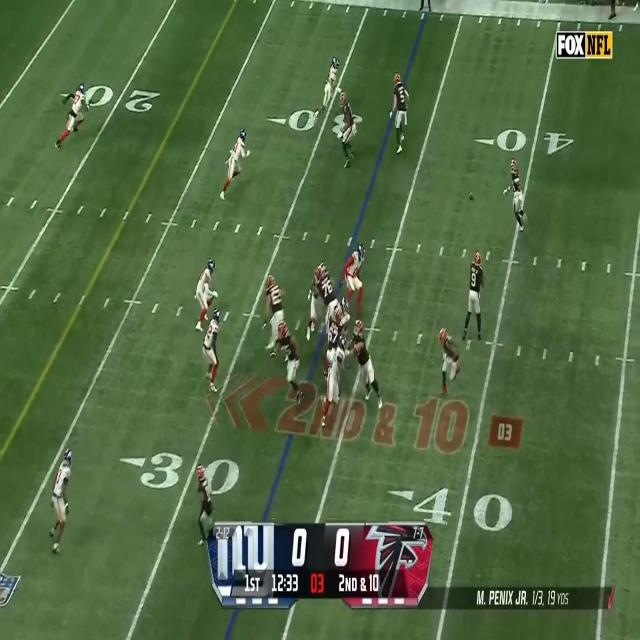Ball: (468, 190, 475, 203)
